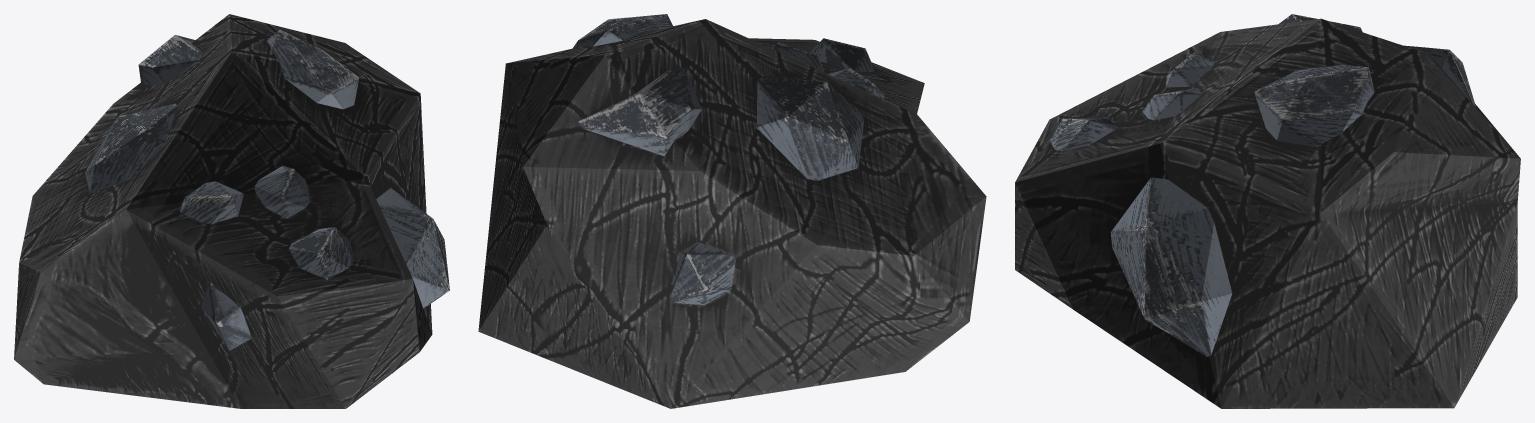
Rendered from stylized_iron_ore_-_game_ready.obj.
3 views of the same model, side by side, from view 1: azimuth 30°, elevation 25°; view 2: azimuth 150°, elevation 25°; view 3: azimuth 270°, elevation 25° (orthographic). The views are drawn at different scales.
Visible parts, largest first — view 1: obj2, obj1; view 2: obj2, obj1; view 3: obj2, obj1.
Part boxes in pixels (bbox=[...]): obj2: bbox=[14, 14, 432, 408]; obj1: bbox=[85, 29, 449, 350]; obj2: bbox=[478, 19, 986, 408]; obj1: bbox=[572, 14, 885, 305]; obj2: bbox=[1015, 18, 1520, 408]; obj1: bbox=[1049, 14, 1475, 356].
Bounding box in the file's own units: 2.81 × 2.14 × 2.7.
1 material, 1 textured.
